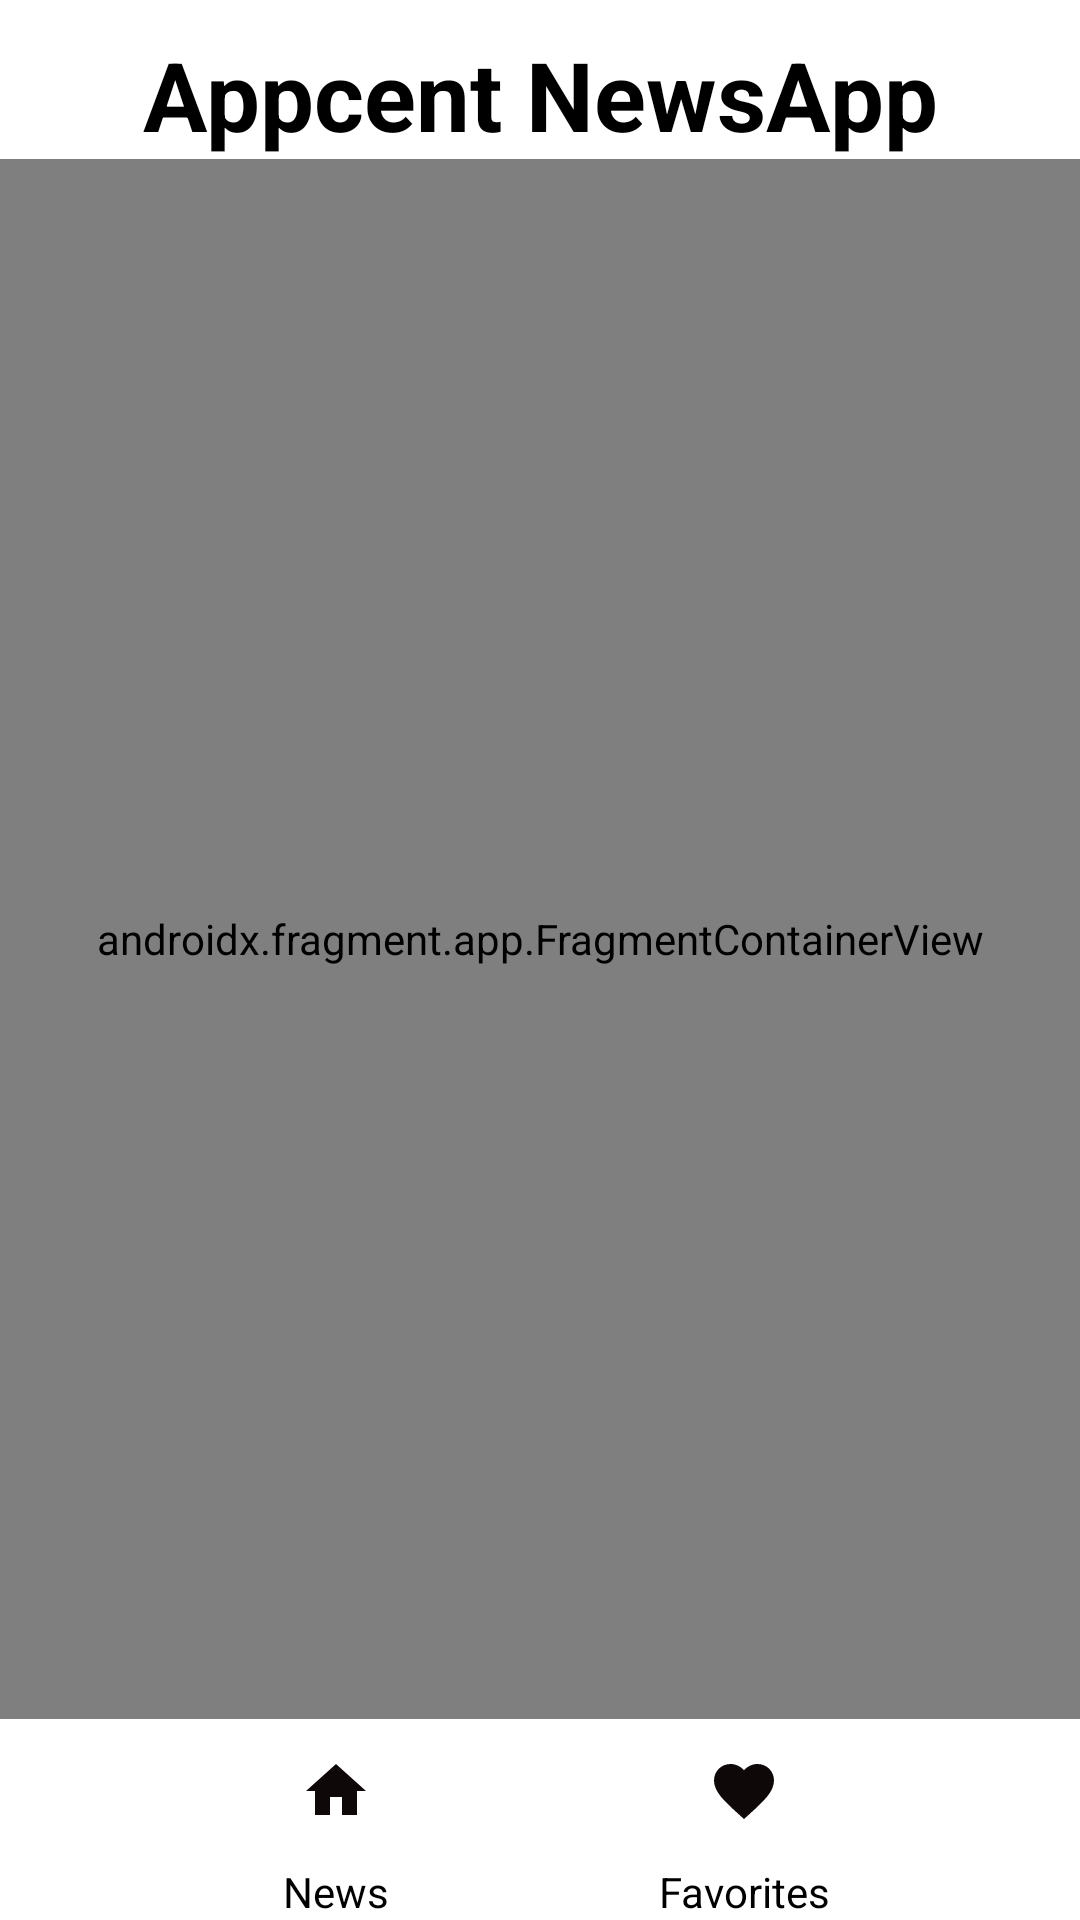

Icons on this 1080×1920 Android screen, each with its box as (x1, y1, x2, y2):
home: (306, 1764, 366, 1815)
